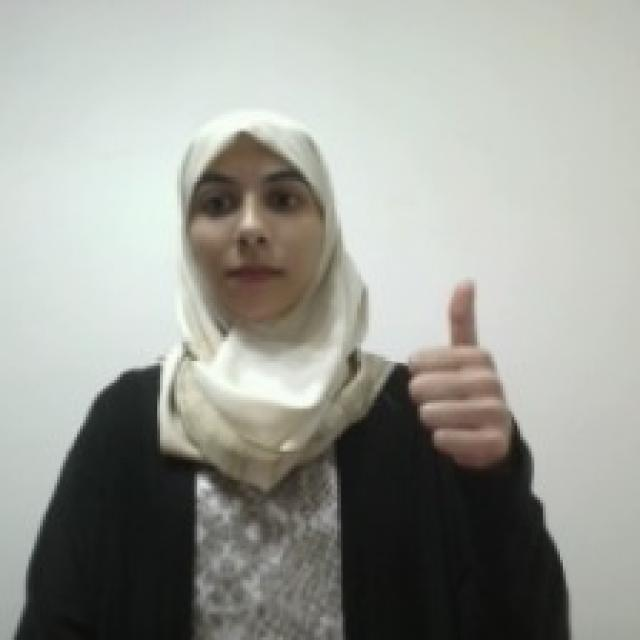fine: (400, 271, 517, 468)
